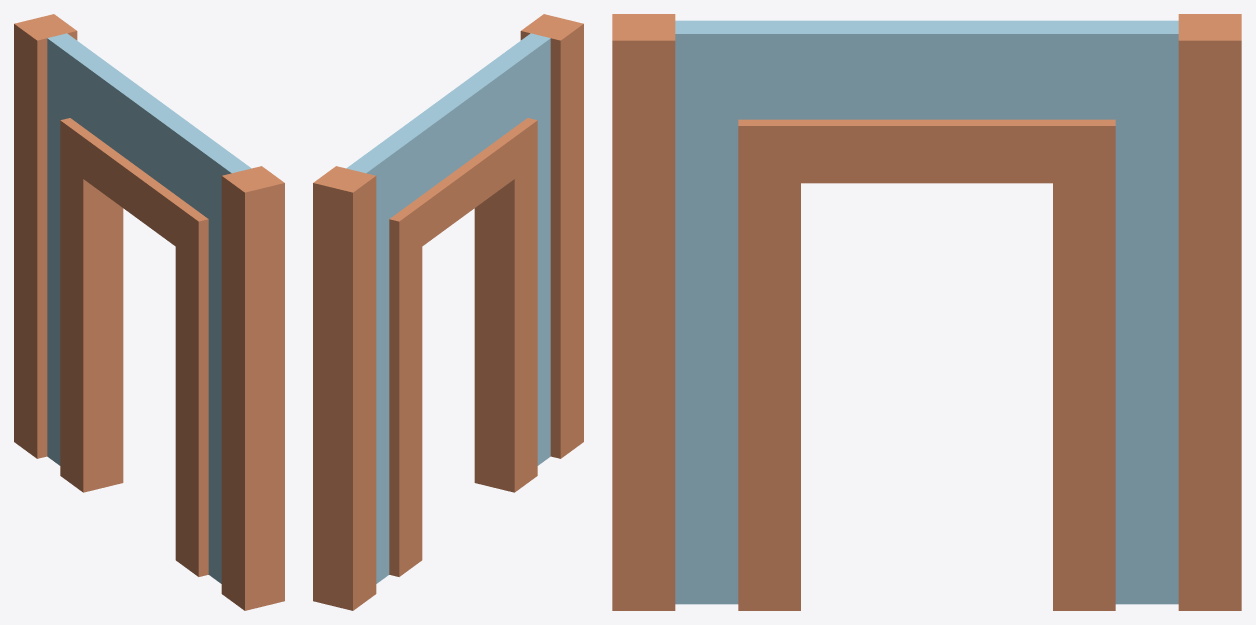
The model's file is wallDoorwaySquare.fbx.
The picture shows the model from 3 angles, left to right: view 1: azimuth 30°, elevation 25°; view 2: azimuth 150°, elevation 25°; view 3: azimuth 270°, elevation 25°; orthographic projection. The views are drawn at different scales.
Visible parts, largest first — view 1: wallDoorwaySquare; view 2: wallDoorwaySquare; view 3: wallDoorwaySquare.
Part boxes in pixels (x1,y1,x2,y2): wallDoorwaySquare: [14, 14, 284, 610]; wallDoorwaySquare: [313, 14, 583, 610]; wallDoorwaySquare: [612, 14, 1241, 610].
Bounding box in the file's own units: 1 × 10 × 10.
